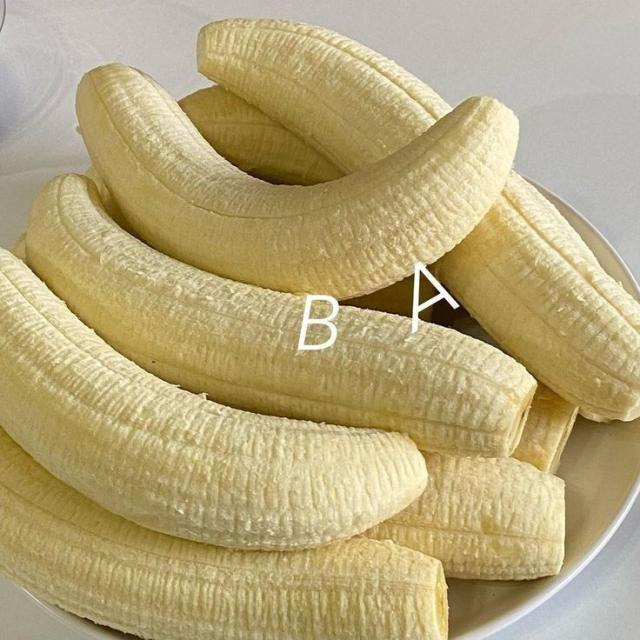banana: (27, 175, 535, 455), (0, 250, 426, 549), (77, 64, 518, 298), (0, 431, 447, 639), (437, 174, 639, 419), (367, 454, 565, 579), (179, 87, 344, 185), (180, 86, 344, 184), (513, 384, 578, 473), (513, 385, 578, 473), (10, 234, 26, 259)
